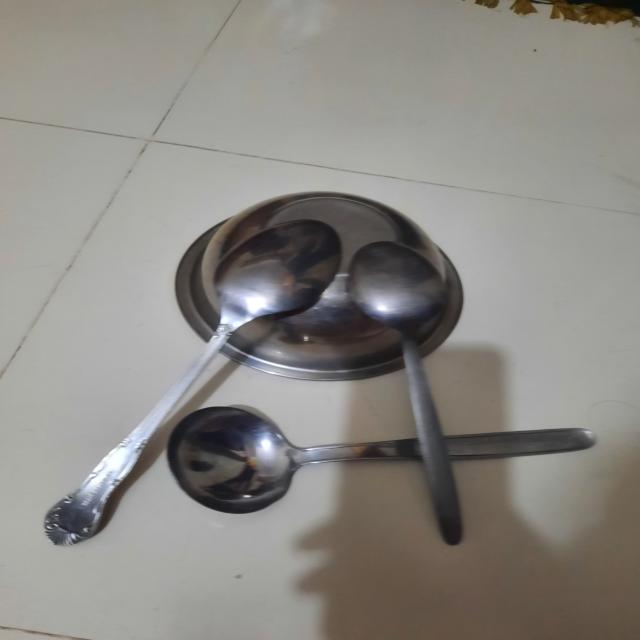Metal: (68, 142, 640, 538)
